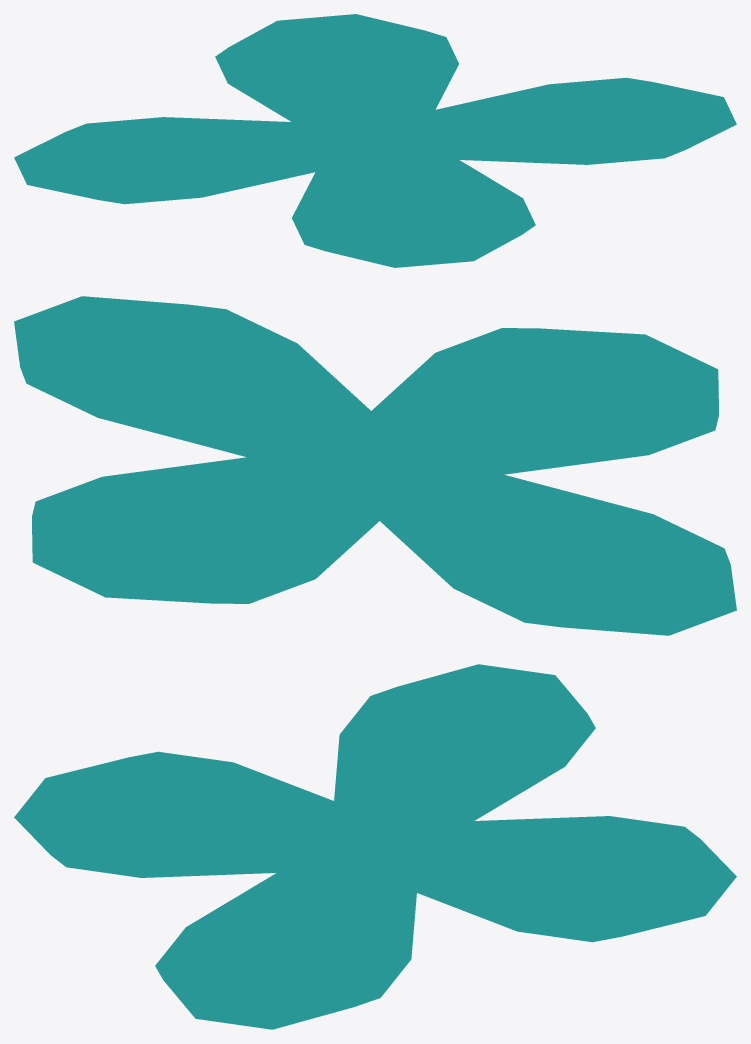
Rendered from frog_color_11.fbx.
3 views of the same model, one above another, from view 1: azimuth 30°, elevation 25°; view 2: azimuth 150°, elevation 25°; view 3: azimuth 270°, elevation 25° (orthographic). The views are drawn at different scales.
Parts seen in each view (by area): view 1: frog_color_11; view 2: frog_color_11; view 3: frog_color_11.
Boxes of the visible parts, box(x1,y1,x2,y2) form: frog_color_11: box(14, 14, 736, 267); frog_color_11: box(14, 296, 736, 635); frog_color_11: box(14, 664, 736, 1029).
Size of the model in its own units: 35.15 by 0 by 29.37.
